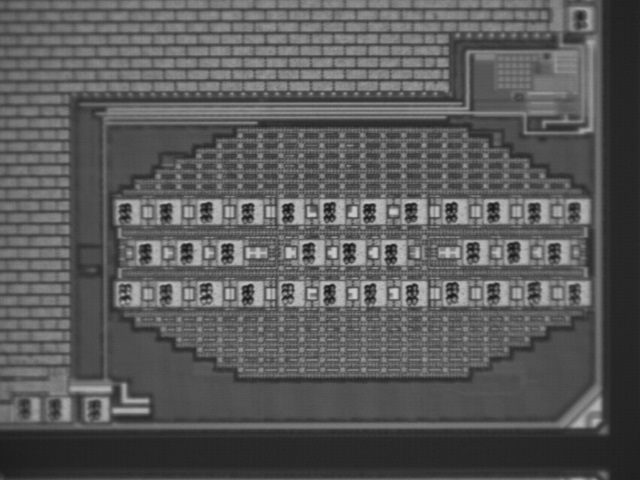over: (111, 196, 141, 228), (153, 195, 183, 227), (194, 194, 224, 226), (234, 195, 264, 227), (275, 194, 305, 226), (317, 194, 347, 226), (358, 194, 388, 226), (398, 194, 428, 226), (440, 194, 470, 226), (480, 194, 510, 226), (521, 194, 551, 226), (562, 194, 592, 226), (541, 236, 571, 268), (500, 235, 530, 267), (460, 235, 490, 267), (458, 233, 488, 265), (378, 235, 408, 267), (336, 235, 366, 267), (296, 235, 326, 267), (215, 236, 245, 268), (173, 235, 203, 267), (133, 236, 163, 268), (112, 277, 142, 309), (151, 277, 181, 309), (193, 277, 223, 309), (234, 276, 264, 308), (275, 276, 305, 308), (316, 277, 346, 309), (356, 276, 386, 308), (398, 277, 428, 309), (439, 276, 469, 308), (481, 276, 511, 308), (520, 276, 550, 308), (562, 276, 592, 308), (566, 2, 596, 34), (80, 393, 110, 425), (43, 392, 73, 424), (11, 392, 41, 424)
